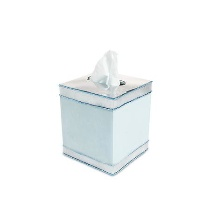plastic_box: (52, 66, 157, 178)
tissue: (85, 44, 126, 91)
